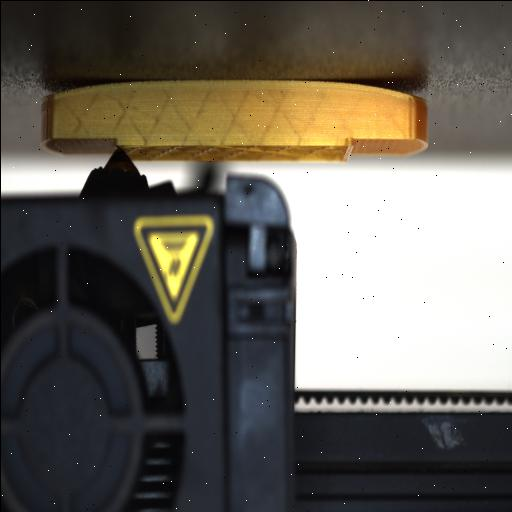warp: (342, 72, 438, 118), (32, 77, 116, 109)
